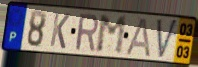8: (26, 9, 48, 50)
A: (124, 17, 152, 59)
K: (48, 11, 72, 51)
M: (95, 15, 128, 56)
R: (74, 13, 99, 54)
V: (156, 18, 180, 62)
